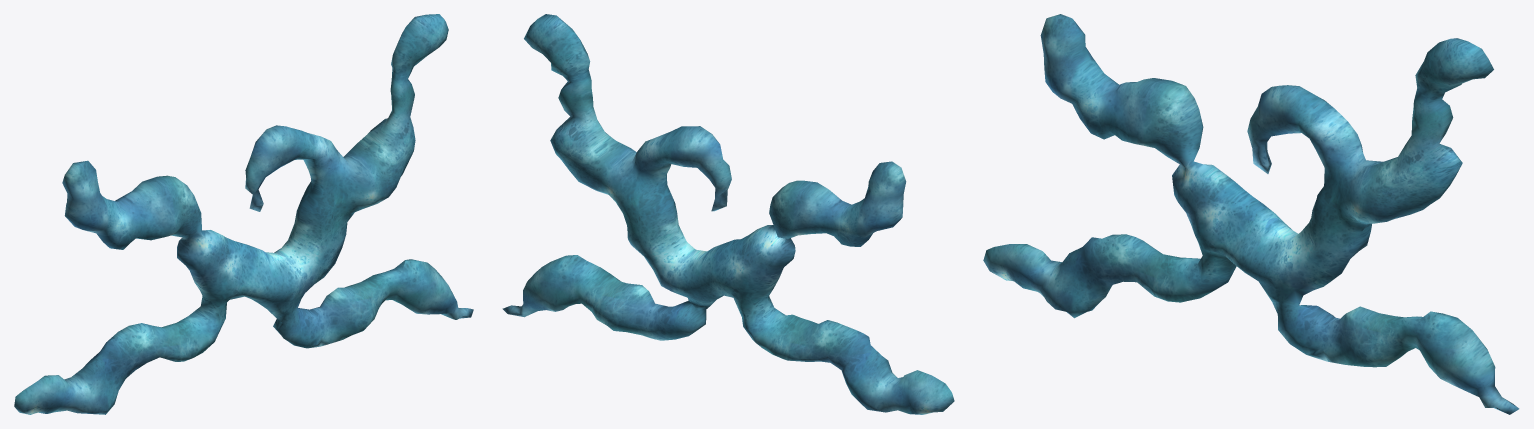
3 renders of one model, left to right at view 1: azimuth 30°, elevation 25°; view 2: azimuth 150°, elevation 25°; view 3: azimuth 330°, elevation 25°, orthographic. The views are drawn at different scales.
Parts seen in each view (by area): view 1: obj4; view 2: obj4; view 3: obj4.
Boxes of the visible parts, x1,y1,x2,y2 form: obj4: (14,14,473,414); obj4: (502,14,954,414); obj4: (983,14,1519,414).
Size of the model in its own units: 577 by 377 by 75.77.
1 material, 1 textured.
